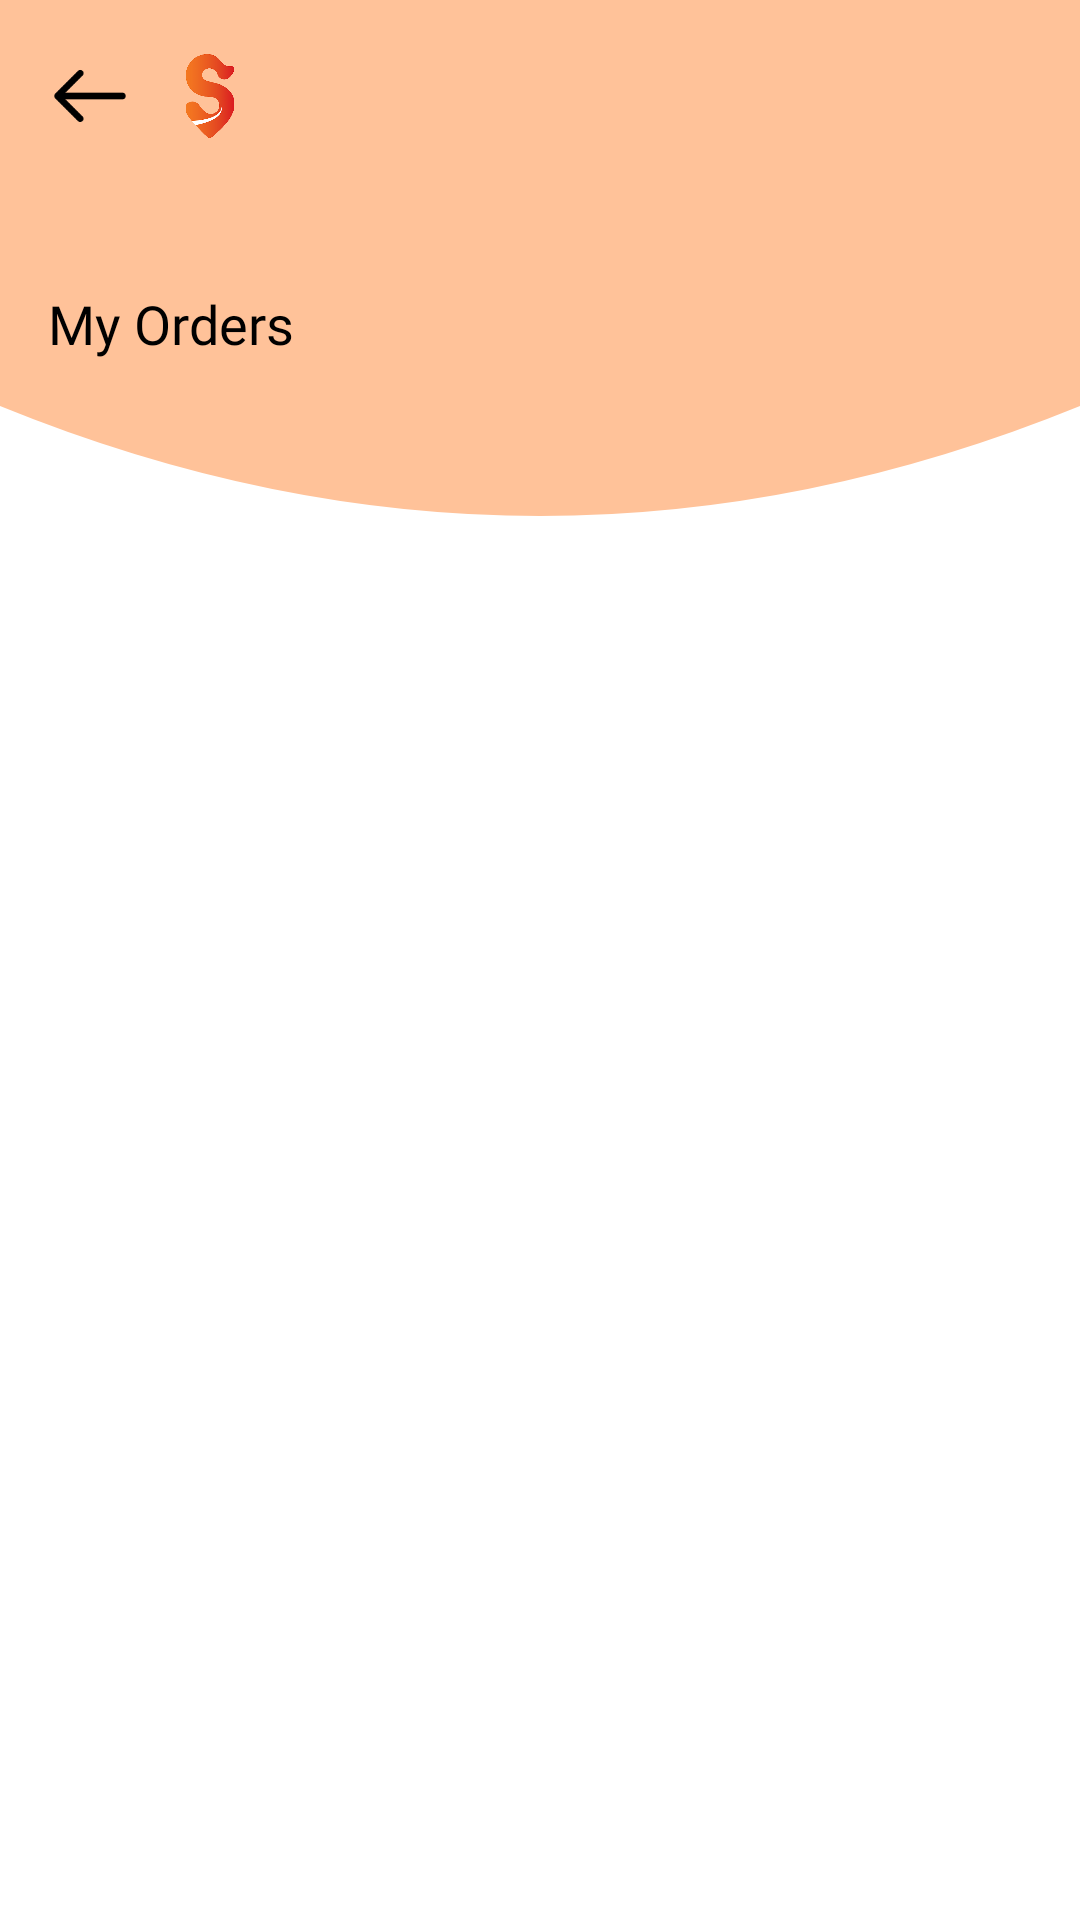

Icons on this 1080px×1920px Android screen, each with the point to tap as [x,y]:
toolbar back button: [90,96]
